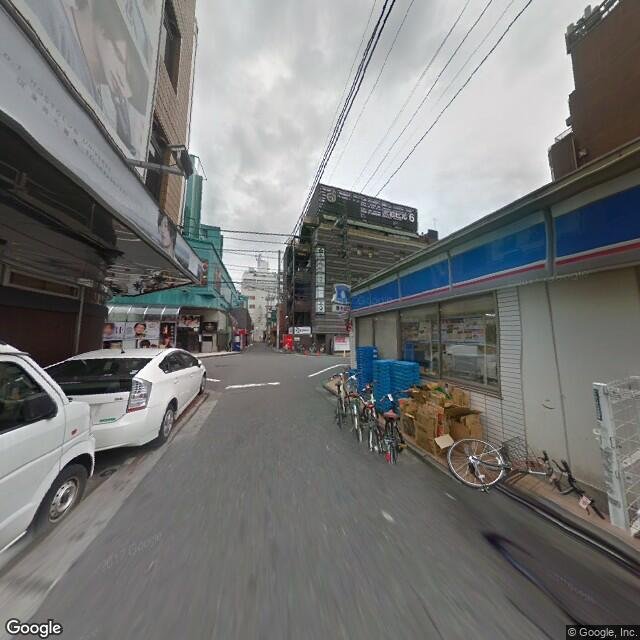lawson: (351, 150, 639, 317), (328, 279, 356, 307)
